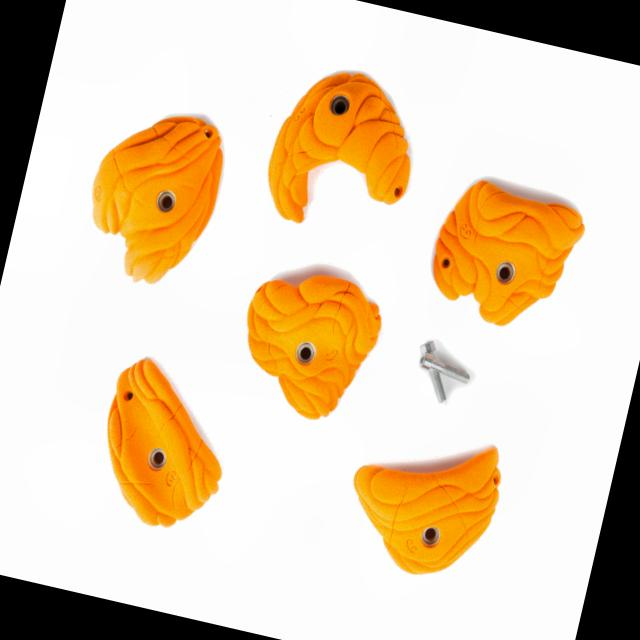Hold: (325, 410, 511, 596), (251, 51, 430, 242), (72, 94, 240, 296), (415, 166, 596, 344), (220, 259, 397, 432), (83, 350, 245, 533)
